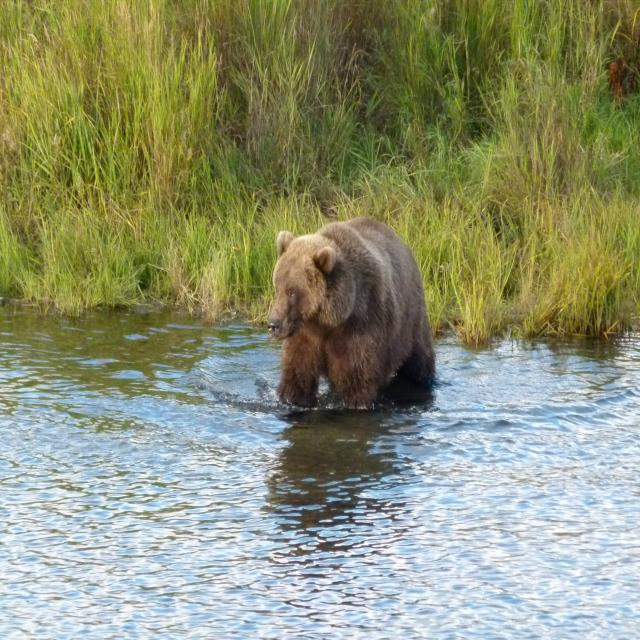bear face: (264, 216, 432, 406)
